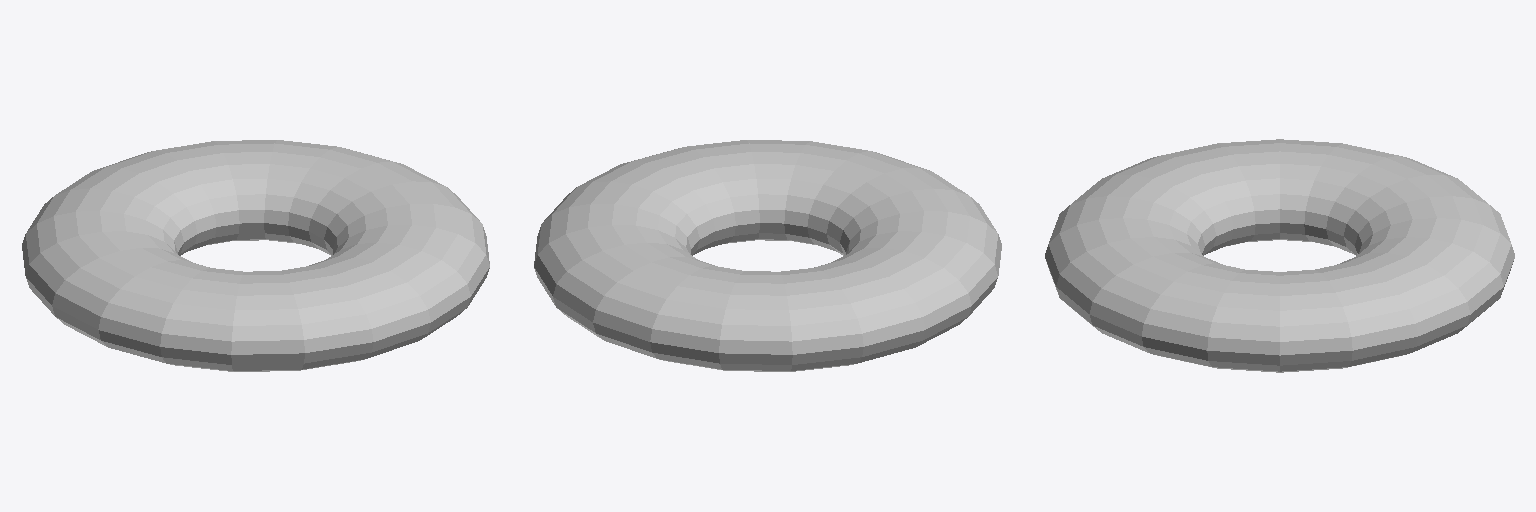
The model's file is ring.obj.
The picture shows the model from 3 angles: view 1: azimuth 30°, elevation 25°; view 2: azimuth 150°, elevation 25°; view 3: azimuth 270°, elevation 25°; orthographic projection.
Visible parts, largest first — view 1: pTorus1; view 2: pTorus1; view 3: pTorus1.
Part boxes in pixels (left/top/right/bottom): pTorus1: left=22, top=140, right=489, bottom=371; pTorus1: left=534, top=140, right=1001, bottom=371; pTorus1: left=1045, top=139, right=1514, bottom=372.
Size of the model in its own units: 0.3875 by 0.0693 by 0.3875.